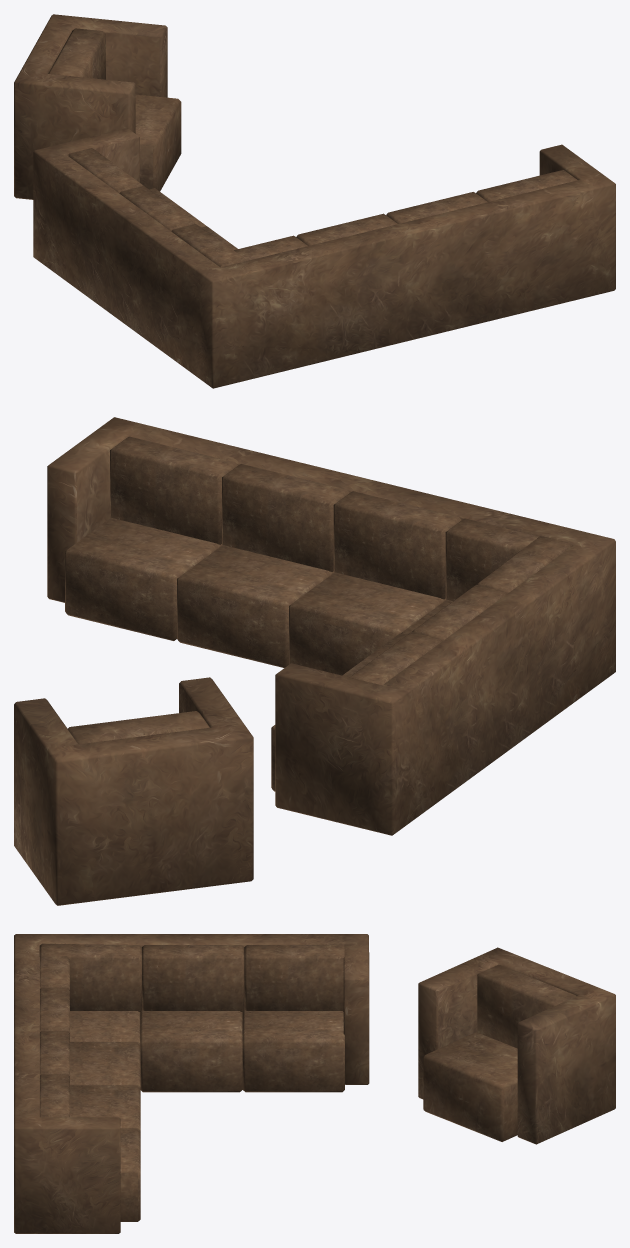
Rendered from Sofas.fbx.
3 renders of one model, top to bottom at view 1: azimuth 30°, elevation 25°; view 2: azimuth 150°, elevation 25°; view 3: azimuth 270°, elevation 25°, orthographic. The views are drawn at different scales.
Visible parts, largest first — view 1: Sofa_Big, Sofa_Small; view 2: Sofa_Big, Sofa_Small; view 3: Sofa_Big, Sofa_Small.
Part boxes in pixels (box(x1,y1,x2,y2)): Sofa_Big: box(33, 128, 615, 388); Sofa_Small: box(14, 14, 181, 199); Sofa_Big: box(47, 417, 615, 835); Sofa_Small: box(14, 677, 253, 905); Sofa_Big: box(14, 934, 369, 1233); Sofa_Small: box(418, 947, 615, 1144).
Bounding box in the file's own units: 394 × 109 × 515.
1 material, 1 textured.
